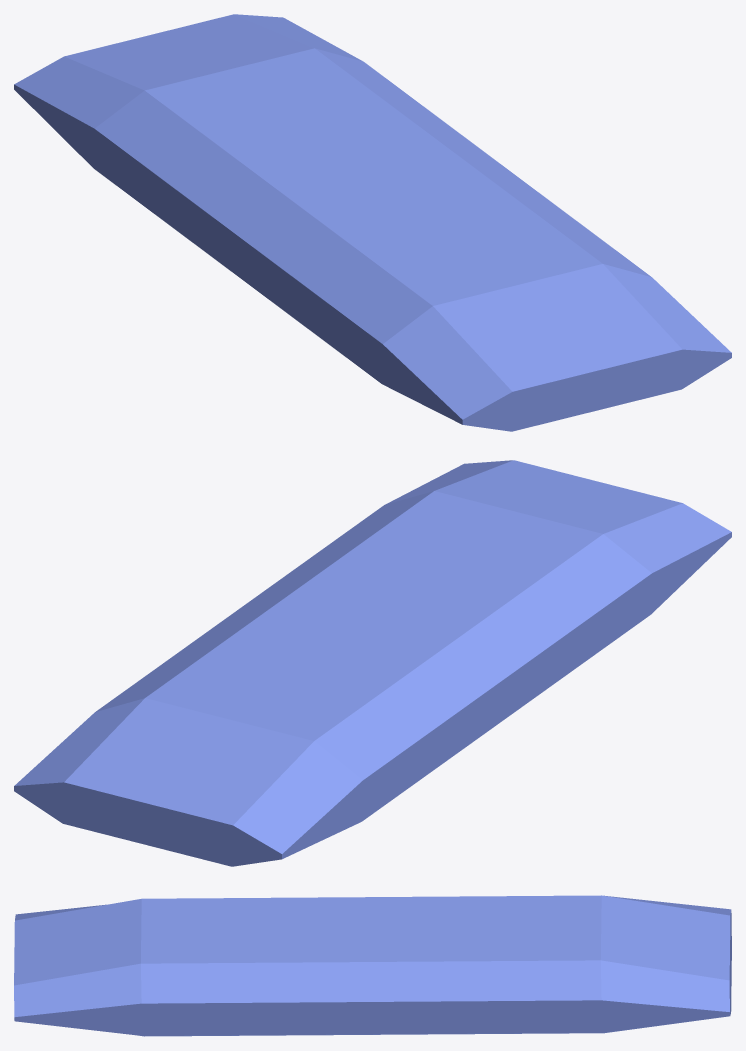
The model's file is cushion_bed.fbx.
3 renders of one model, top to bottom at view 1: azimuth 30°, elevation 25°; view 2: azimuth 150°, elevation 25°; view 3: azimuth 270°, elevation 25°, orthographic. The views are drawn at different scales.
Parts seen in each view (by area): view 1: cushion_bed; view 2: cushion_bed; view 3: cushion_bed.
Boxes of the visible parts, x1,y1,x2,y2 form: cushion_bed: [14, 14, 731, 431]; cushion_bed: [14, 460, 731, 866]; cushion_bed: [14, 895, 731, 1036].
Size of the model in its own units: 118 by 40.8 by 14.02.
